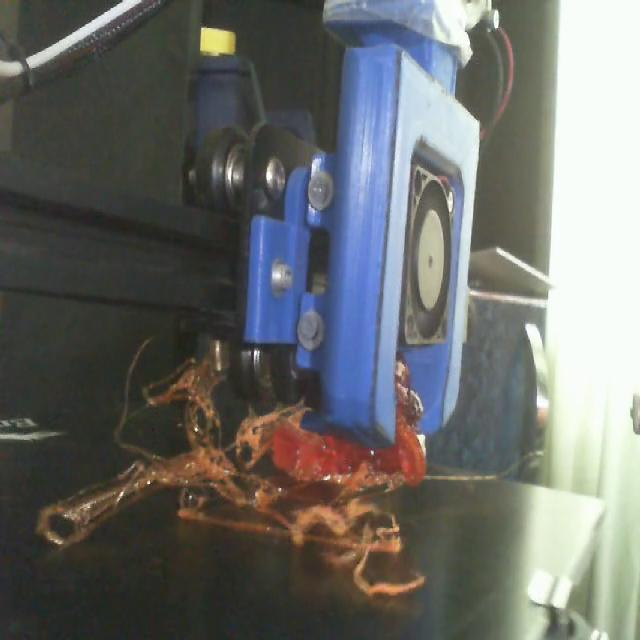spaghetti: (36, 340, 426, 597)
